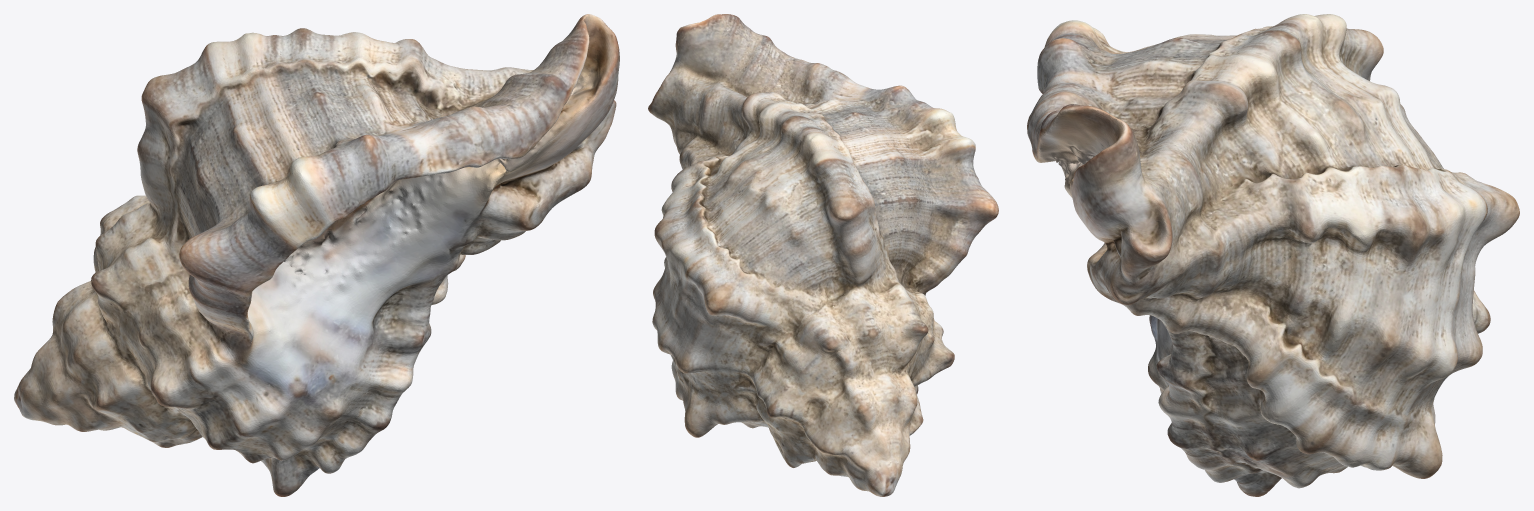
Rendered from MZUR3D-063.glb.
The picture shows the model from 3 angles, left to right: view 1: azimuth 30°, elevation 25°; view 2: azimuth 150°, elevation 25°; view 3: azimuth 270°, elevation 25°; orthographic projection. The views are drawn at different scales.
Visible parts, largest first — view 1: MZUR3D-063; view 2: MZUR3D-063; view 3: MZUR3D-063.
Part boxes in pixels (x1=…): MZUR3D-063: x1=14, y1=14, x2=619, y2=496; MZUR3D-063: x1=648, y1=14, x2=998, y2=496; MZUR3D-063: x1=1027, y1=14, x2=1519, y2=496.
Bounding box in the file's own units: 0.3134 × 0.3094 × 0.2735.
1 material, 1 textured.
